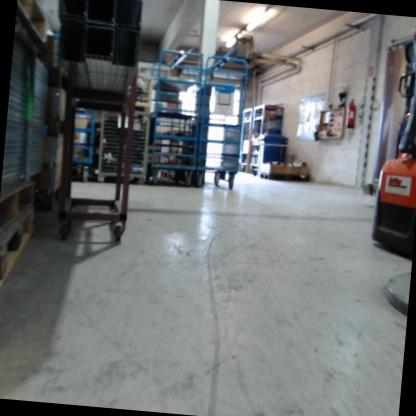pallet: (0, 206, 35, 292), (0, 177, 34, 245), (14, 0, 52, 45), (32, 184, 62, 213), (258, 172, 306, 186)
pallet_truck: (363, 24, 416, 264), (386, 63, 416, 159)
stillage: (91, 108, 156, 190), (123, 71, 157, 112)
